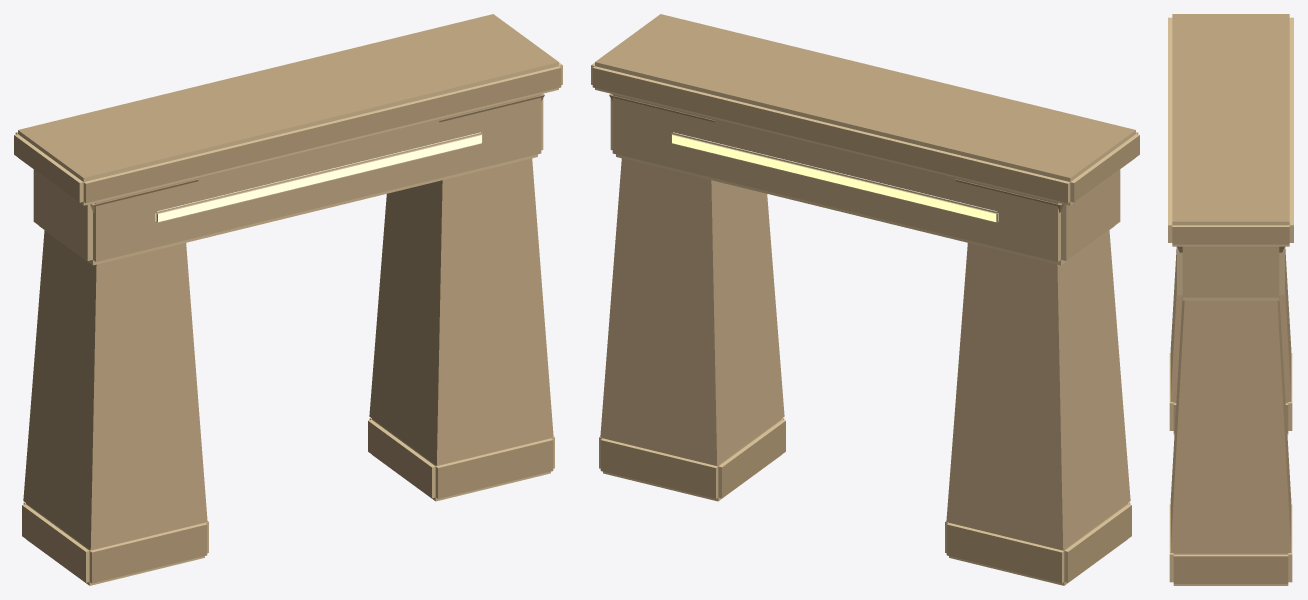
Rendered from TILE_Arch.glb.
The picture shows the model from 3 angles, left to right: view 1: azimuth 30°, elevation 25°; view 2: azimuth 150°, elevation 25°; view 3: azimuth 270°, elevation 25°; orthographic projection. The views are drawn at different scales.
Visible parts, largest first — view 1: TILE_Arch; view 2: TILE_Arch; view 3: TILE_Arch.
Boxes of the visible parts, bbox=[...] form: TILE_Arch: bbox=[14, 14, 562, 585]; TILE_Arch: bbox=[591, 14, 1139, 585]; TILE_Arch: bbox=[1168, 14, 1293, 585].
Bounding box in the file's own units: 6.2 × 5.03 × 1.56.
